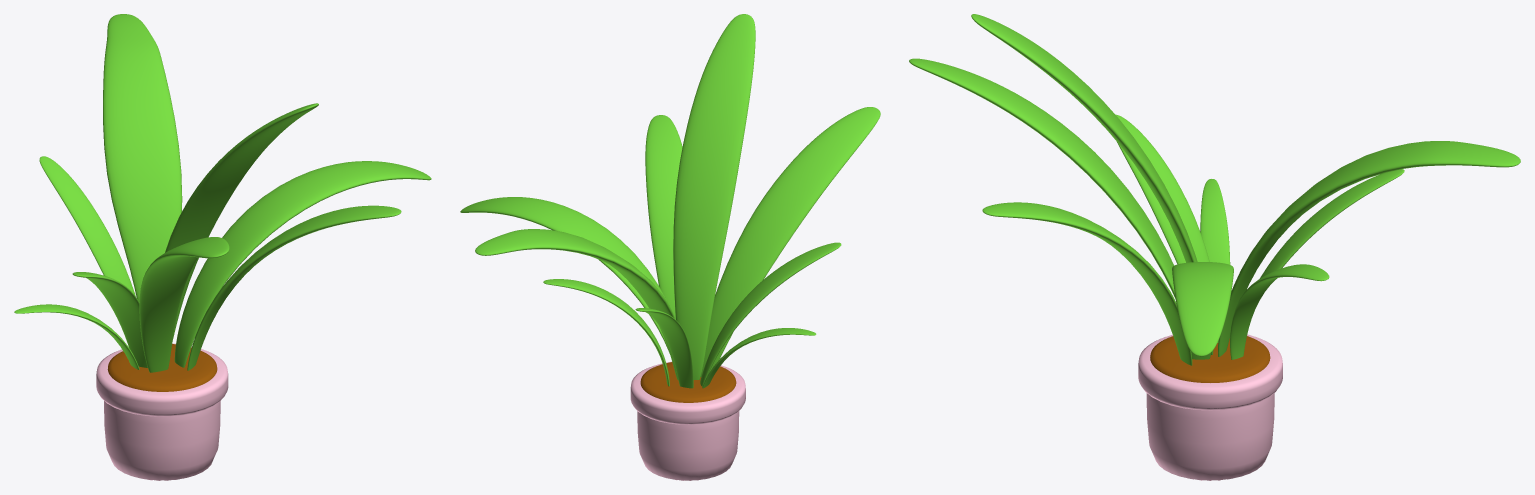
Rendered from daun.fbx.
The picture shows the model from 3 angles, left to right: view 1: azimuth 30°, elevation 25°; view 2: azimuth 150°, elevation 25°; view 3: azimuth 270°, elevation 25°; orthographic projection. The views are drawn at different scales.
Parts seen in each view (by area): view 1: Cube.001, Cube, Cylinder.002, Cube.003, Cube.007, Cylinder.001, Cube.002, Cube.009, Cylinder, Cube.006, Cube.008; view 2: Cube.007, Cube.003, Cylinder.002, Cube.002, Cube, Cube.001, Cylinder.001, Cube.006, Cylinder, Cube.009, Cube.004, Cube.008; view 3: Cylinder.002, Cube.001, Cube.003, Cube.007, Cylinder.001, Cube, Cube.002, Cylinder, Cube.006, Cube.009, Cube.004, Cube.008.
Part boxes in pixels (x1,y1,x2,y2): Cube.001: (103,14,182,301); Cube: (174,161,431,367); Cylinder.002: (104,401,220,480); Cube.003: (139,237,229,372); Cube.007: (165,103,318,341); Cylinder.001: (96,343,228,416); Cube.002: (187,205,401,370); Cube.009: (39,156,135,296); Cylinder: (107,344,217,391); Cube.006: (72,272,147,367); Cube.008: (14,304,139,369); Cube.007: (673,14,755,379); Cube.003: (700,107,880,376); Cylinder.002: (637,411,739,480); Cube.002: (645,115,682,319); Cube: (460,197,669,353); Cube.001: (475,229,678,379); Cylinder.001: (630,361,745,424); Cube.006: (700,242,841,386); Cylinder: (640,362,736,402); Cube.009: (635,308,693,388); Cube.004: (543,279,669,386); Cube.008: (702,328,816,388); Cylinder.002: (1146,393,1274,480); Cube.001: (1218,141,1520,356); Cube.003: (909,58,1175,298); Cube.007: (971,14,1213,354); Cylinder.001: (1138,334,1282,410); Cube: (1172,262,1233,359); Cube.002: (982,202,1192,365); Cylinder: (1150,336,1270,382); Cube.006: (1116,114,1218,342); Cube.009: (1259,169,1404,278); Cube.004: (1230,264,1329,359); Cube.008: (1200,179,1230,264).
Bounding box in the file's own units: 1051 × 1053 × 1237.
